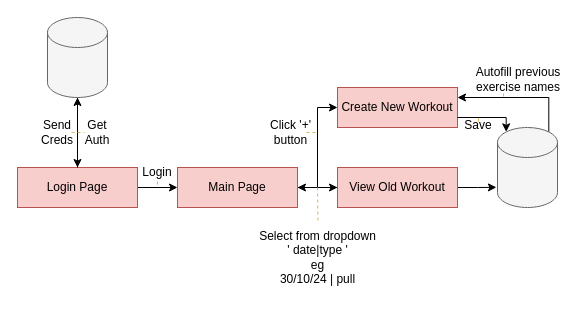
This 587x310 diagram has some shape labels left out. Each missing label, with the centre of its shape:
"Exercises" goes at (x=527, y=167).
"LoginInfo (Hashed)" goes at (x=77, y=57).
